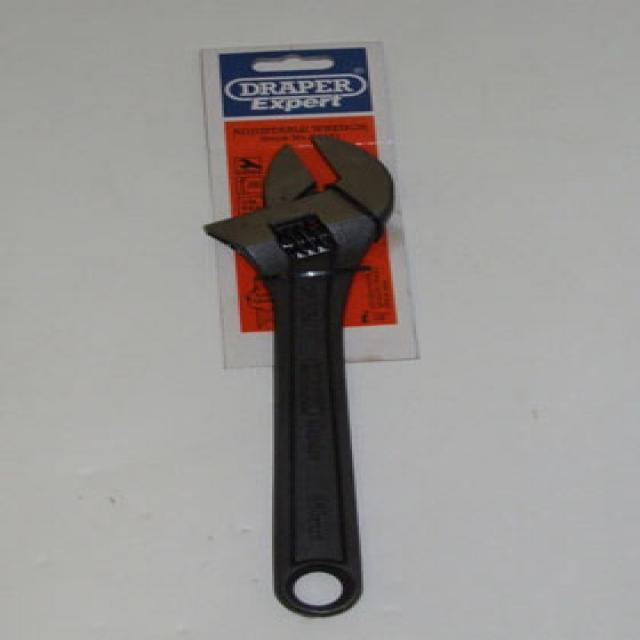wrench: (198, 128, 406, 622)
